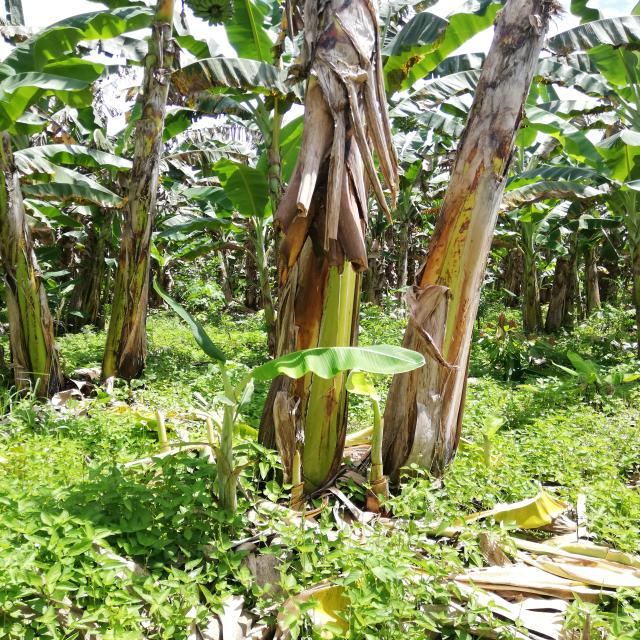Banana-plant: (360, 4, 546, 491), (256, 0, 363, 494), (93, 0, 183, 386), (0, 92, 73, 394)
